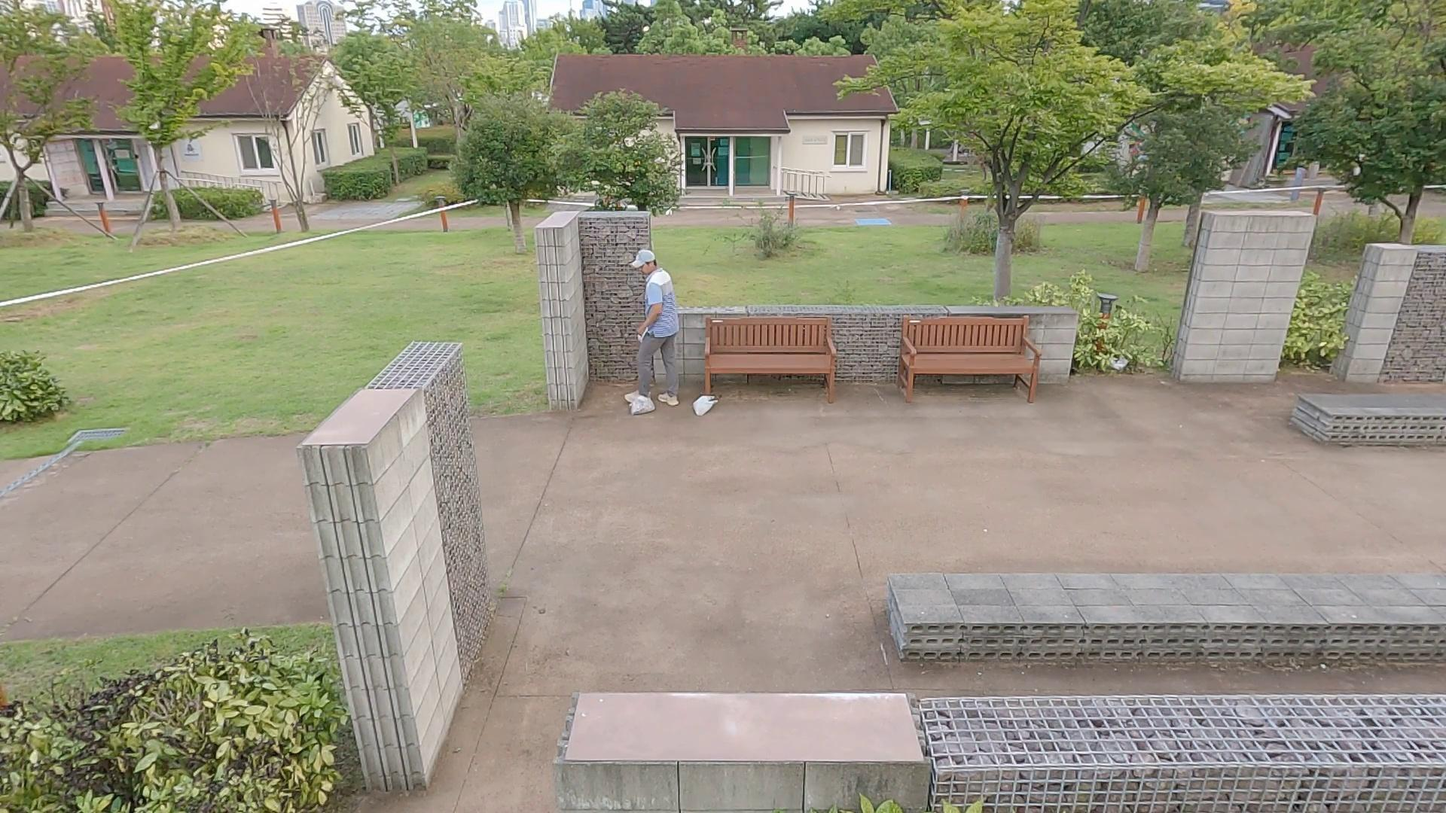person: (623, 246, 680, 407)
trash: (692, 395, 718, 417), (631, 395, 656, 415)
